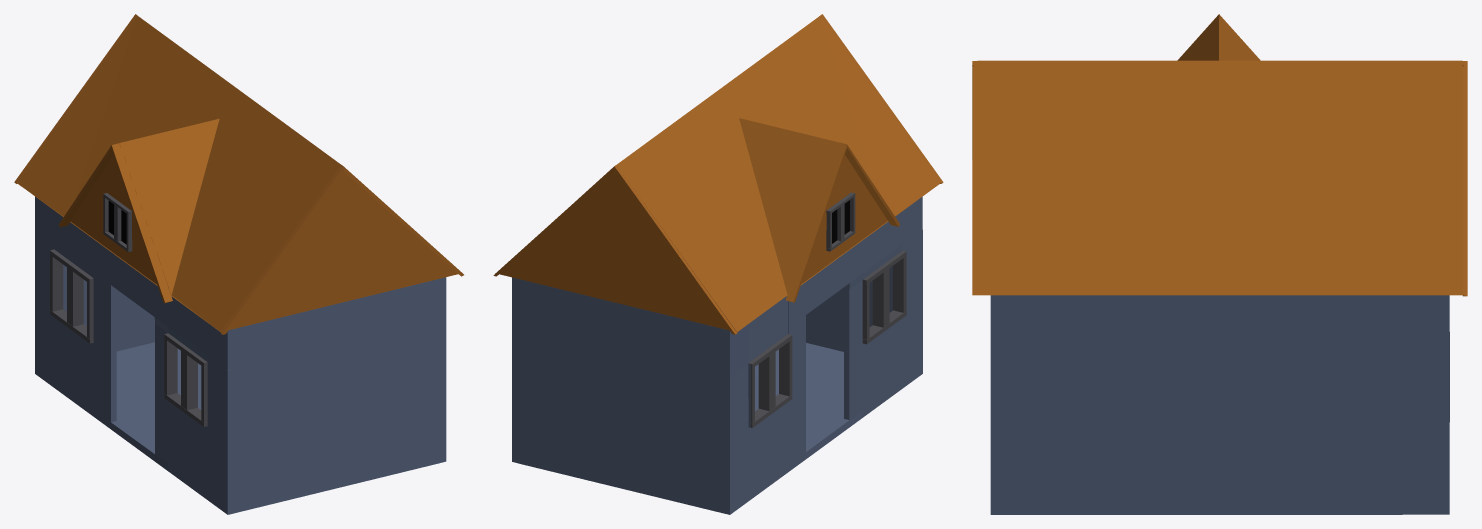
The model's file is House.obj.
3 views of the same model, side by side, from view 1: azimuth 30°, elevation 25°; view 2: azimuth 150°, elevation 25°; view 3: azimuth 270°, elevation 25° (orthographic). The views are drawn at different scales.
Parts seen in each view (by area): view 1: Куб.014; view 2: Куб.014; view 3: Куб.014.
Part boxes in pixels (x1,y1,x2,y2): Куб.014: (14,14,463,514); Куб.014: (493,14,943,514); Куб.014: (972,14,1467,514).
Bounding box in the file's own units: 5.07 × 6.37 × 7.33.
